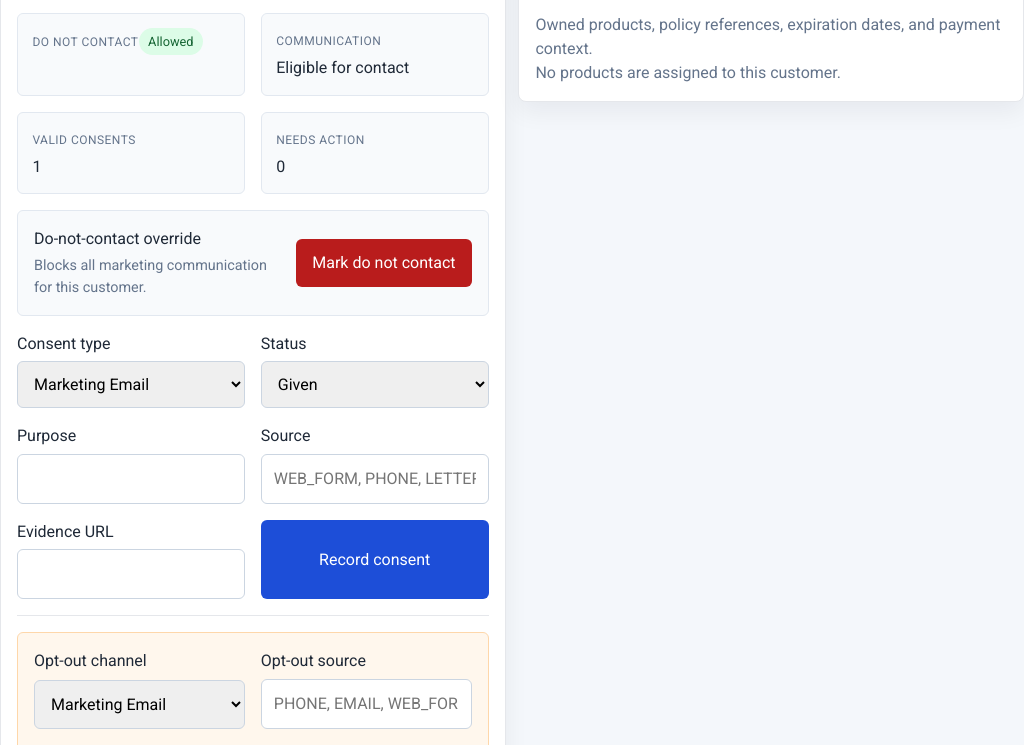
it: CustomerDetailsPage › records a new consent from the customer details consent tab
(page scrolled)
Select "Guardian" in the dropdown labelled "Consent type": [131, 385] box [17,361,245,408]
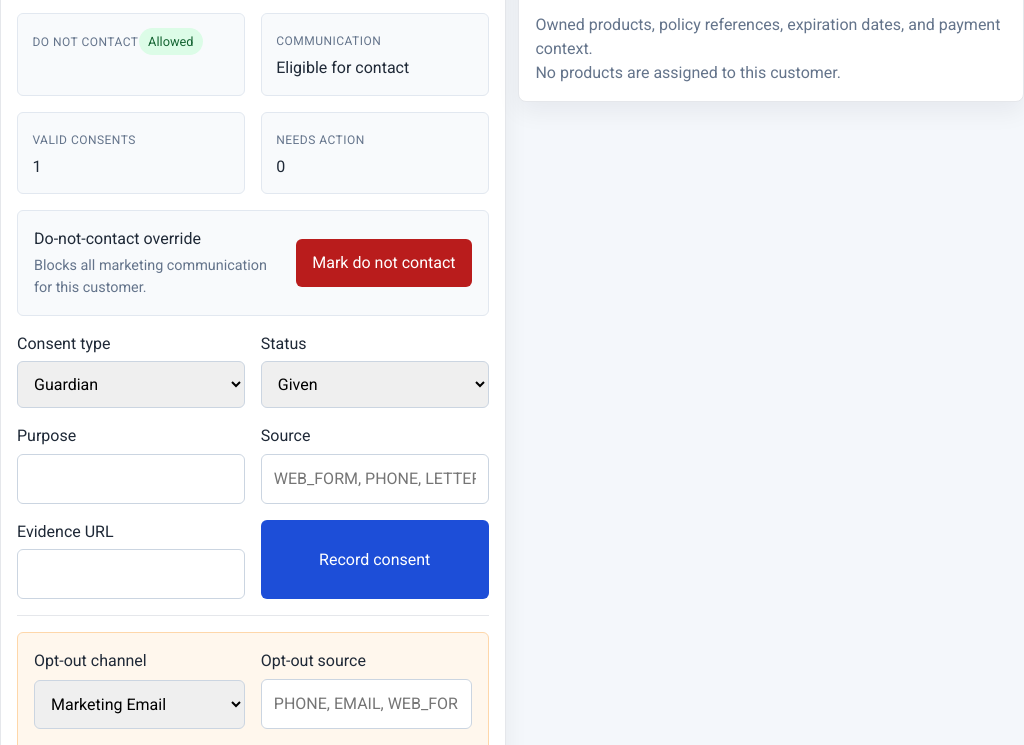
Select "Required" in the dropdown named "Consent status": [375, 385] box [261,361,489,408]
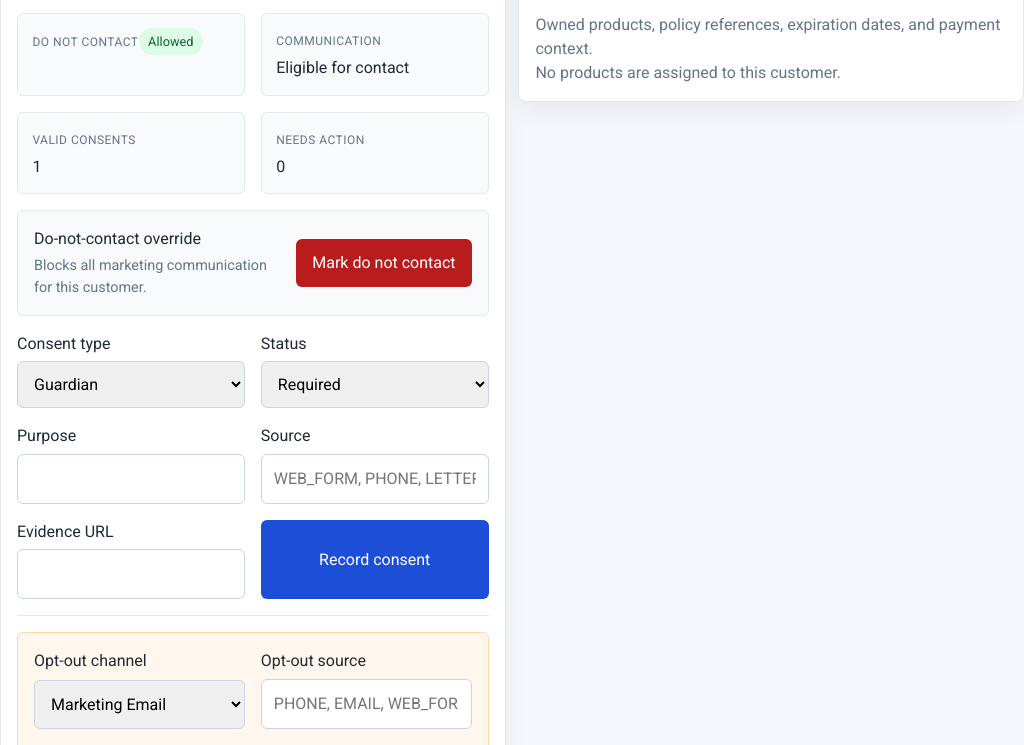
In the field labelled "Purpose": [131, 479] box [17,454,245,504], type "Guardian consent required"
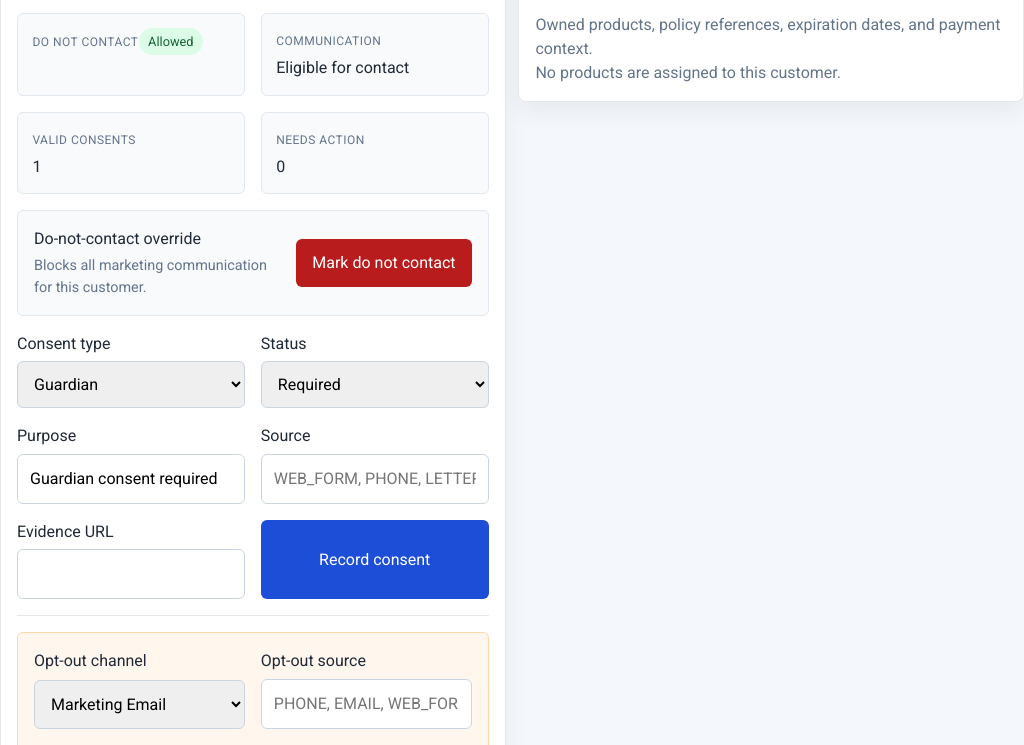
In the field labelled "Source": [375, 479] box [261,454,489,504], type "PHONE"
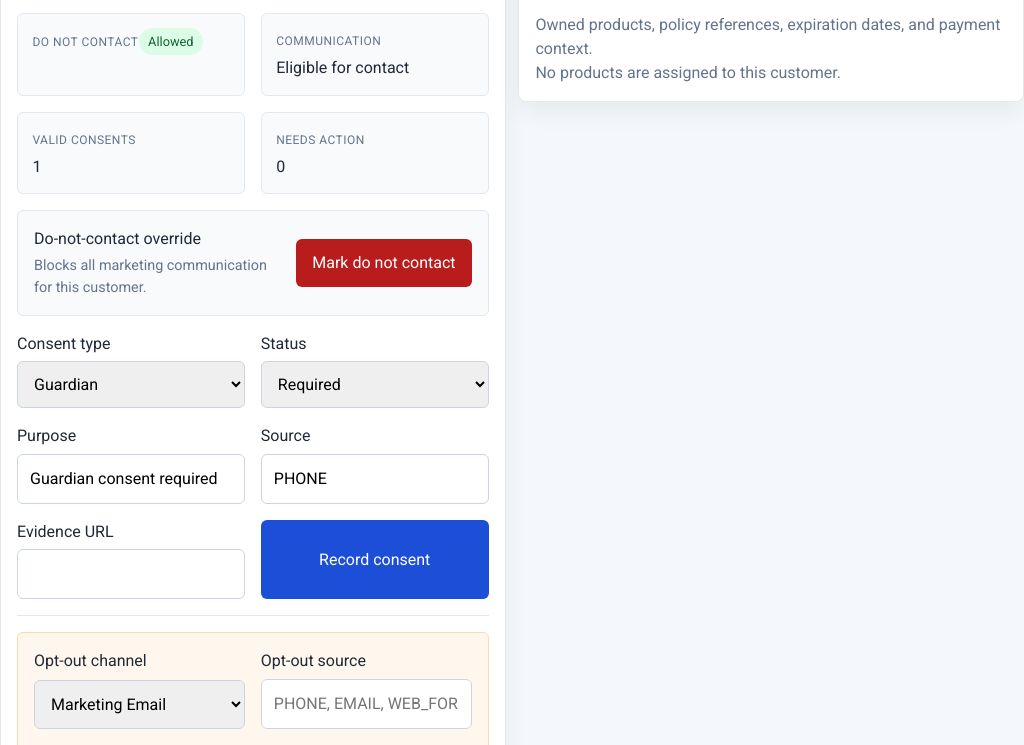
In the field labelled "Evidence URL": [131, 574] box [17,549,245,599], type "s3://evidence/guardian.pdf"
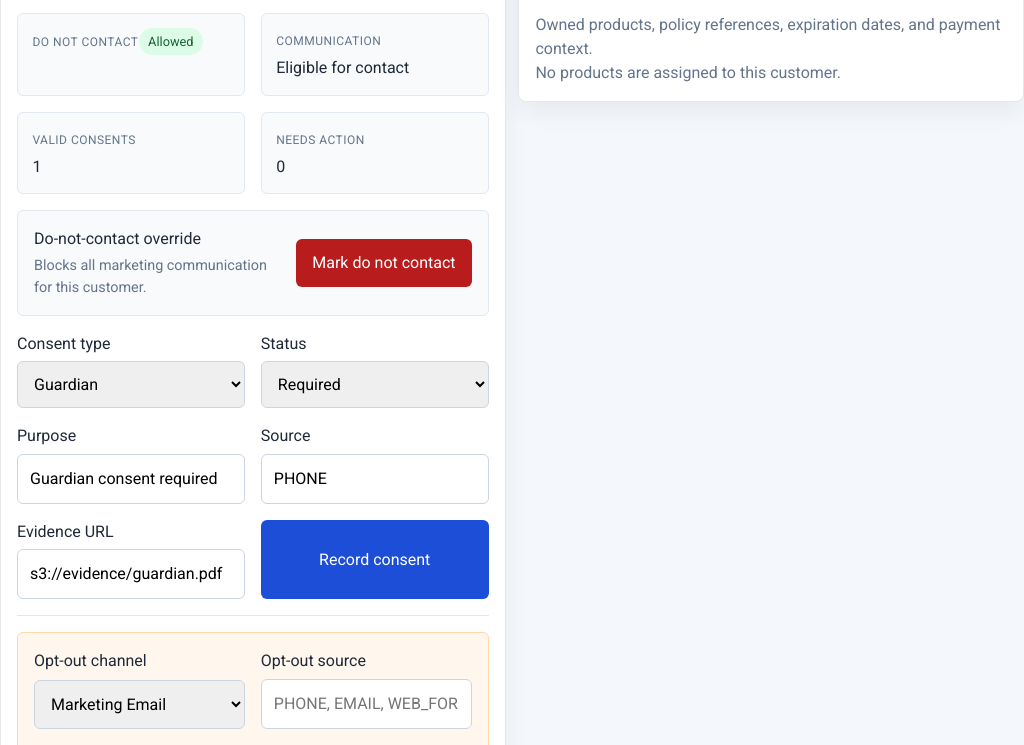
Click the button "Record consent": [375, 560] box [261,520,489,599]
(page scrolled)
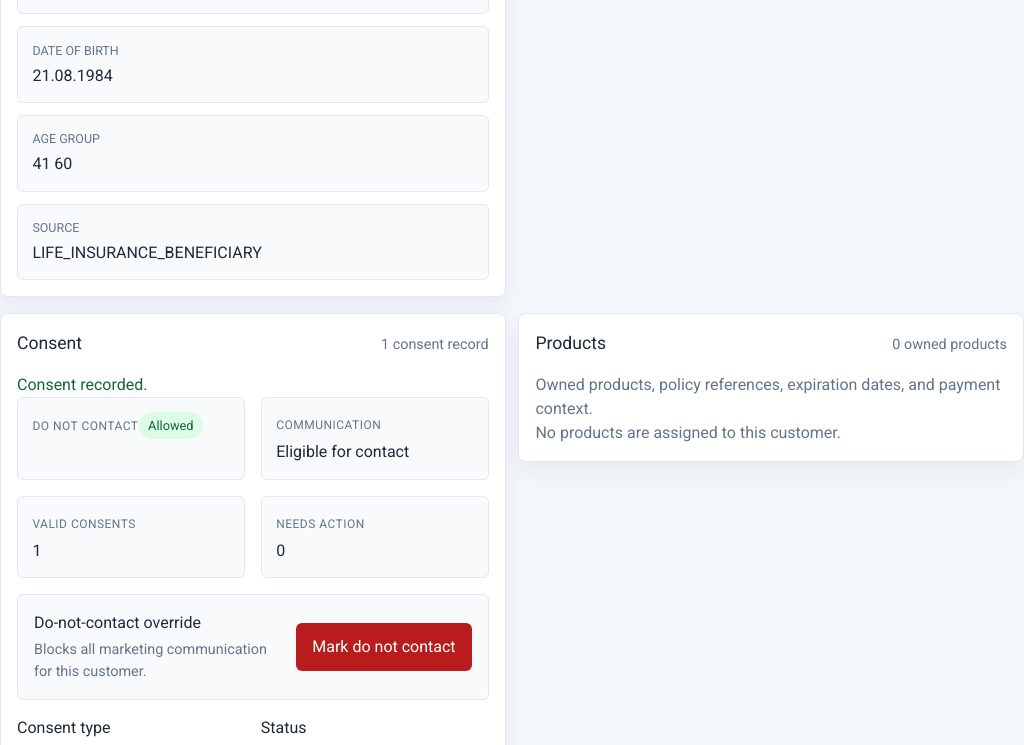
Check: the message with test id "consent-update-notice" reads "Consent recorded.", box [17,375,147,394]
